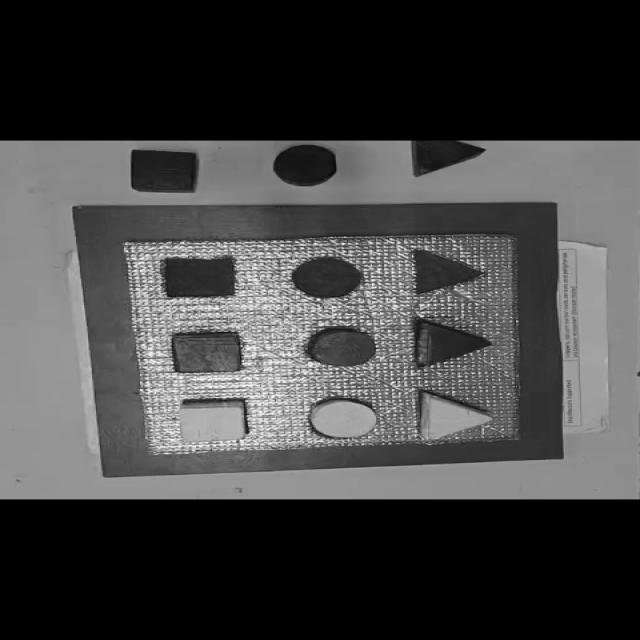bcircle: (272, 144, 338, 187)
bcube: (129, 149, 199, 194)
btriangle: (411, 139, 486, 175)
mtcircle: (290, 257, 364, 298)
mtcube: (160, 256, 240, 299)
mttriangle: (411, 249, 484, 294)
rcircle: (306, 327, 378, 366)
rcube: (170, 332, 244, 373)
rtriangle: (418, 322, 492, 366)
wb: (122, 234, 524, 455)
ycircle: (306, 398, 378, 439)
ycube: (177, 398, 249, 444)
ytriangle: (416, 390, 494, 441)
